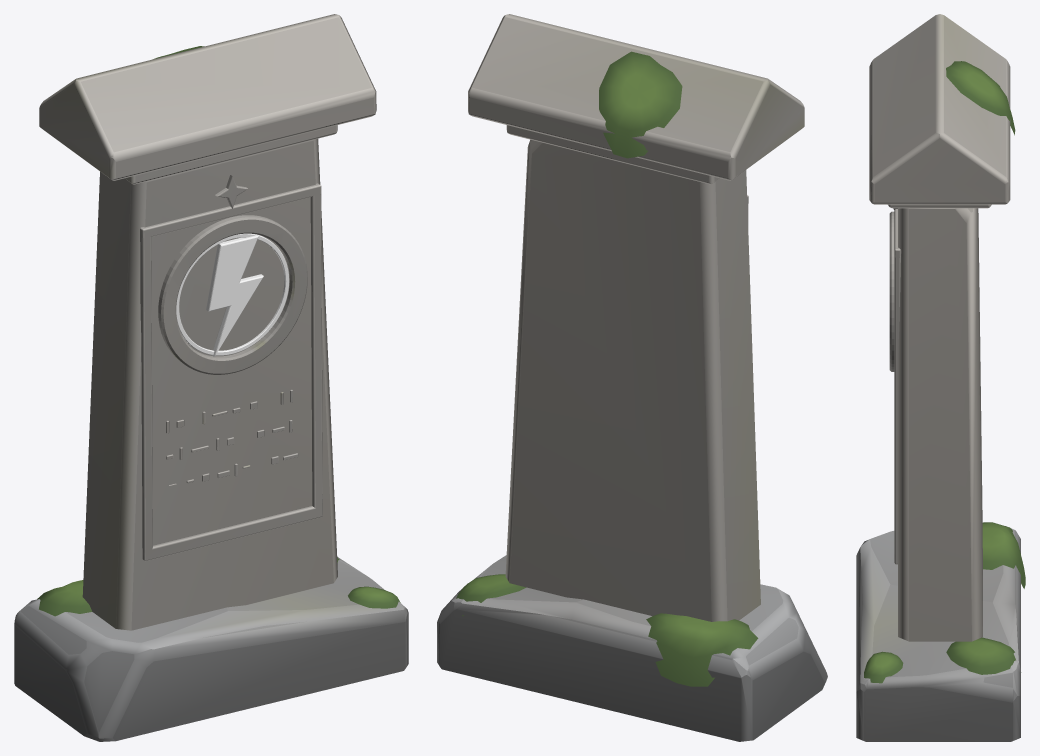
Rendered from stele_thunder.glb.
3 views of the same model, side by side, from view 1: azimuth 30°, elevation 25°; view 2: azimuth 150°, elevation 25°; view 3: azimuth 270°, elevation 25° (orthographic). The views are drawn at different scales.
Parts seen in each view (by area): view 1: stele_thunder_LOD0; view 2: stele_thunder_LOD0; view 3: stele_thunder_LOD0.
Boxes of the visible parts, x1=… form: stele_thunder_LOD0: x1=14, y1=14, x2=408, y2=741; stele_thunder_LOD0: x1=437, y1=14, x2=827, y2=741; stele_thunder_LOD0: x1=856, y1=14, x2=1025, y2=741.
Size of what is drawn, in the model's own units: 1.32 by 2.51 by 0.6487.
